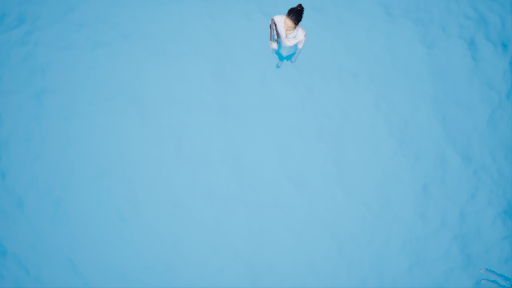person: (257, 3, 312, 62)
